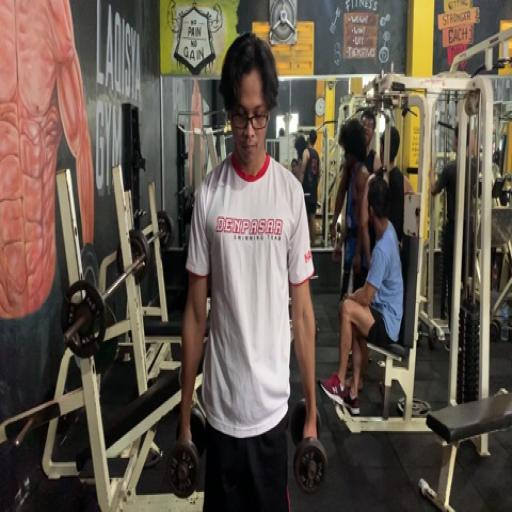exercise: (174, 30, 322, 510)
